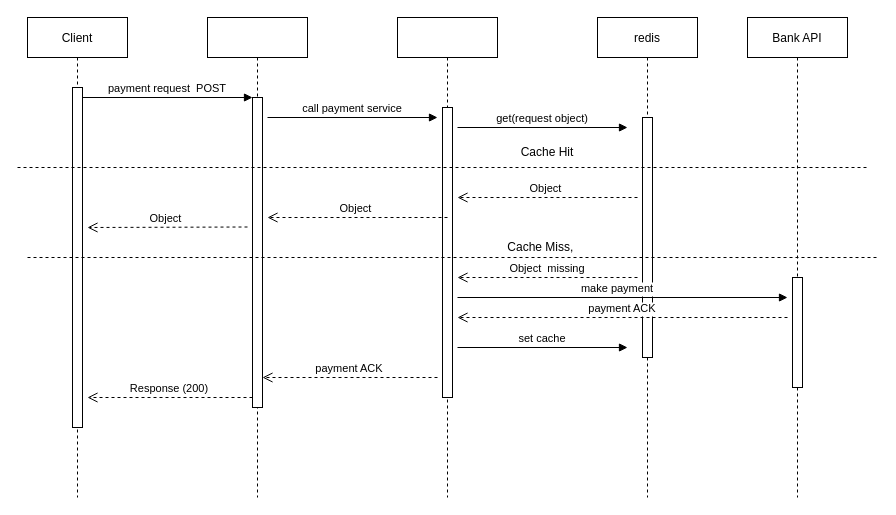
The diagram is 896 pixels wide and 515 high, and some of its shapes have lost their labels. Each missing label, with the box of its shape:
Payment API: (206, 16, 308, 498)
Payment service: (396, 16, 498, 498)
